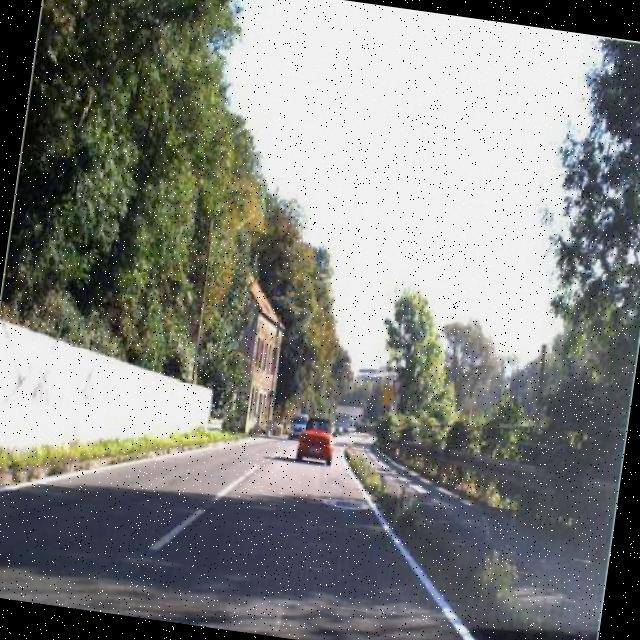Ustap pierwszenstwa: (389, 378, 405, 398)
